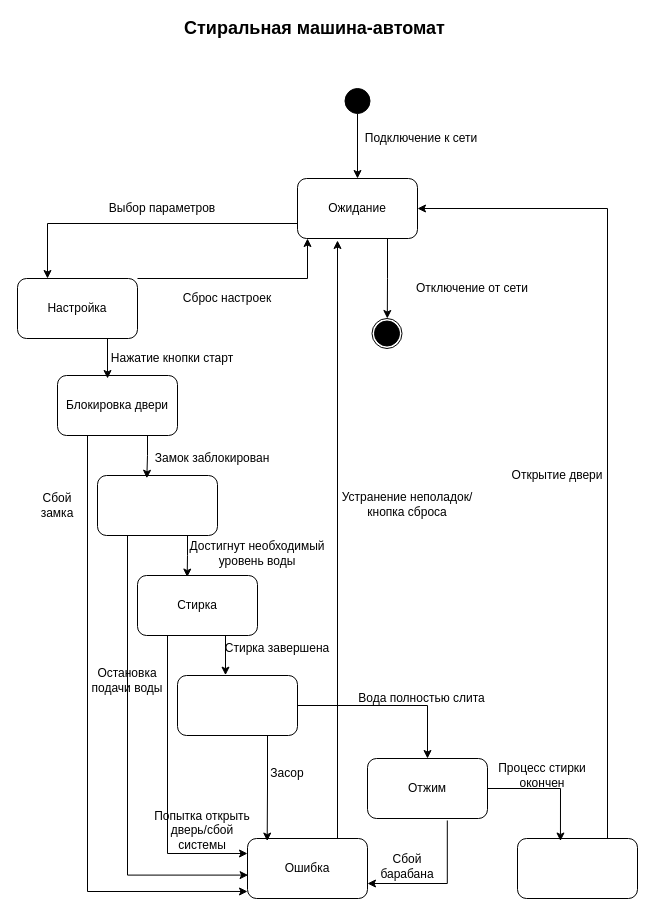
Image size: 655x917. Some labels were removed from this diagram. Each missing label, with the centre of its shape:
"Завершено" goes at pixel 577 868.
"Набор воды" goes at pixel 157 505.
"Слив" goes at pixel 237 705.
